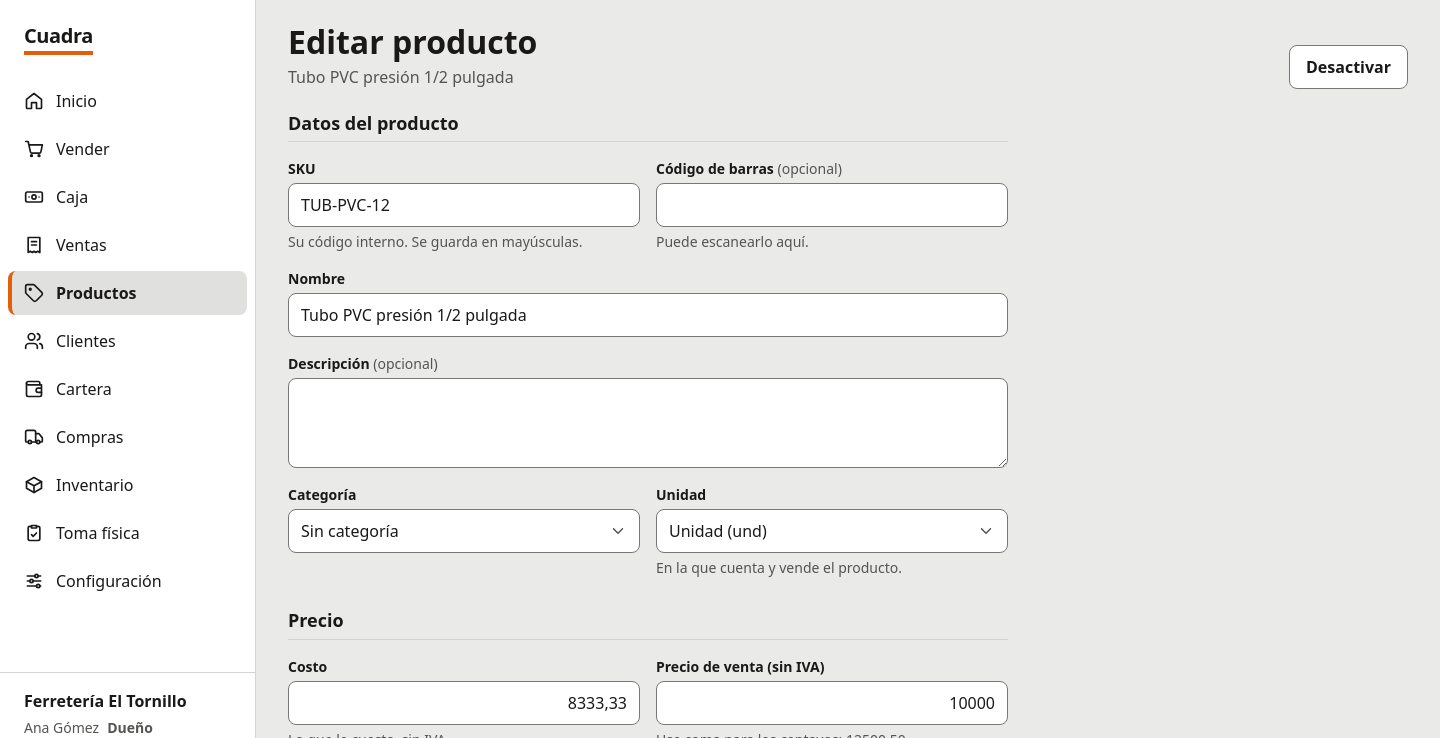
it: ProductFormPage: editar un producto › desactiva un producto y bloquea el cambio de precio hasta reactivarlo
Click the button "Desactivar" at point(1348, 67), box [1289,45,1408,89]
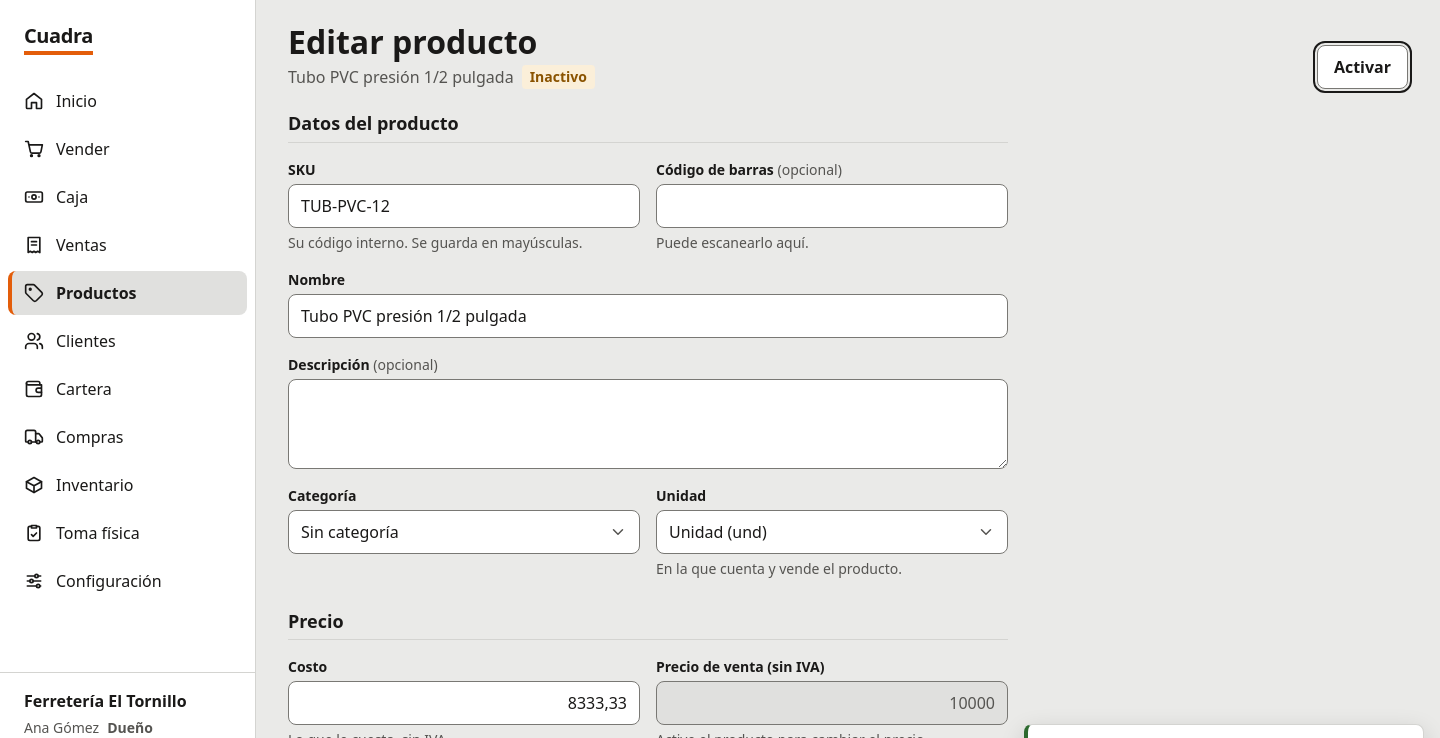
Expected: the button "Activar" is shown, [1317,45,1408,89]
Result: the field labelled "Precio de venta (sin IVA)" is disabled at [656,681,1008,725]
Result: the text "Inactivo" is shown at [522,65,595,89]
